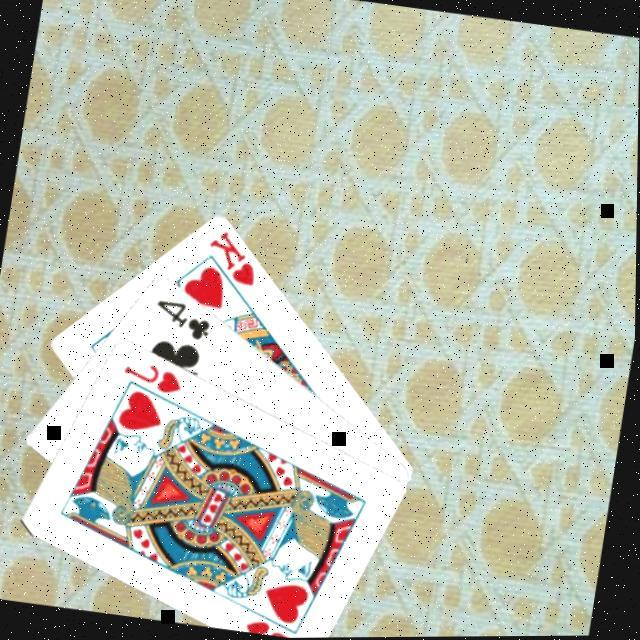4C: (150, 292, 220, 342)
JH: (119, 354, 189, 396), (245, 612, 311, 638)
KH: (202, 223, 267, 288)
